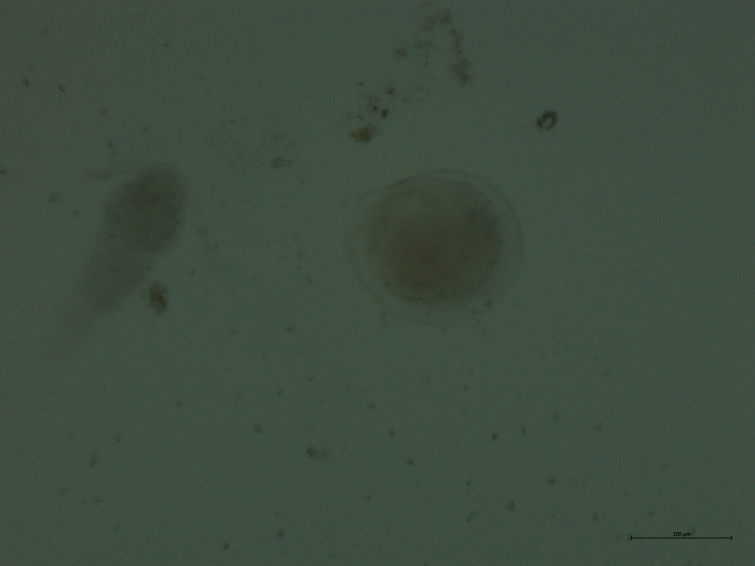oyster: (336, 162, 537, 334)
